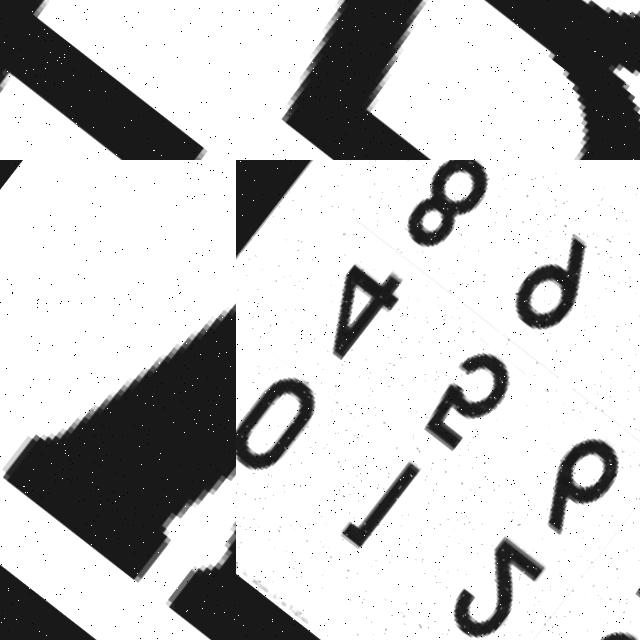0: (236, 359, 332, 488)
1: (330, 446, 430, 561)
2: (430, 526, 554, 640)
3: (542, 611, 640, 640)
4: (295, 246, 415, 375)
5: (407, 334, 527, 464)
6: (521, 422, 633, 545)
8: (389, 160, 502, 263)
9: (498, 219, 615, 346)
F: (0, 0, 236, 160)
Y: (0, 160, 236, 640)
